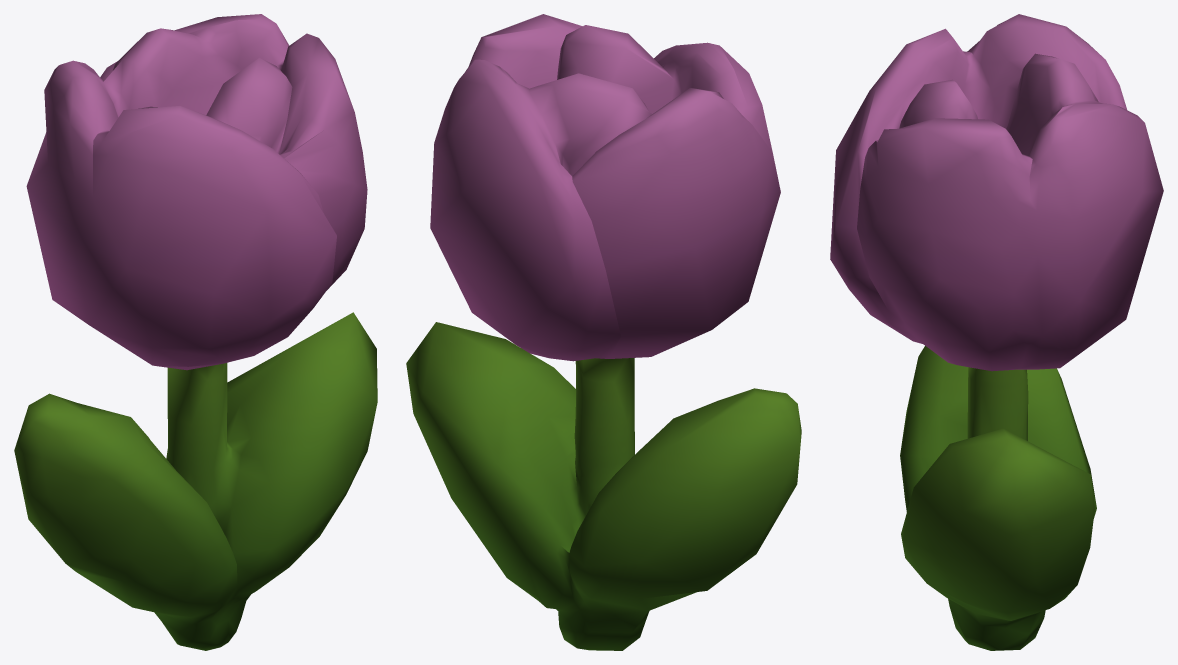
File: Tulip.glb
3 views of the same model, side by side, from view 1: azimuth 30°, elevation 25°; view 2: azimuth 150°, elevation 25°; view 3: azimuth 270°, elevation 25° (orthographic). The views are drawn at different scales.
Visible parts, largest first — view 1: geometry_0; view 2: geometry_0; view 3: geometry_0.
Part boxes in pixels (left/top/right/bottom): geometry_0: left=14, top=14, right=377, bottom=650; geometry_0: left=406, top=14, right=801, bottom=650; geometry_0: left=830, top=14, right=1163, bottom=650.
Bounding box in the file's own units: 0.6647 × 0.9967 × 0.5194.
1 material, 1 textured.
